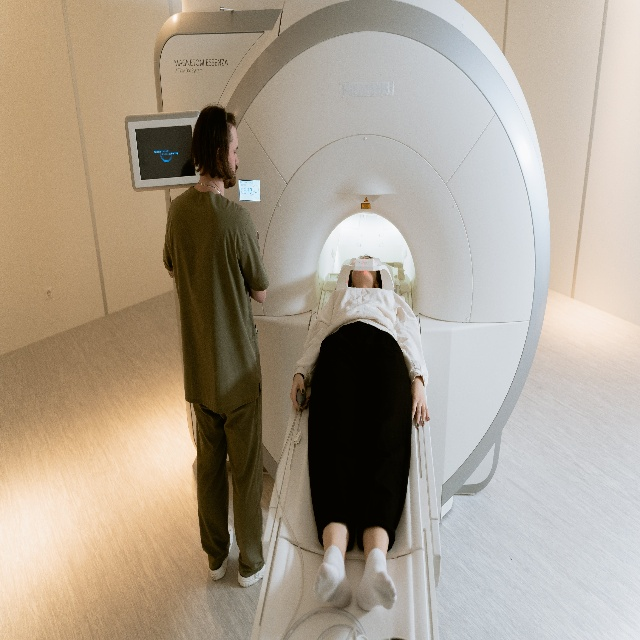Sin_guantes: (410, 375, 431, 431), (289, 373, 310, 412)
